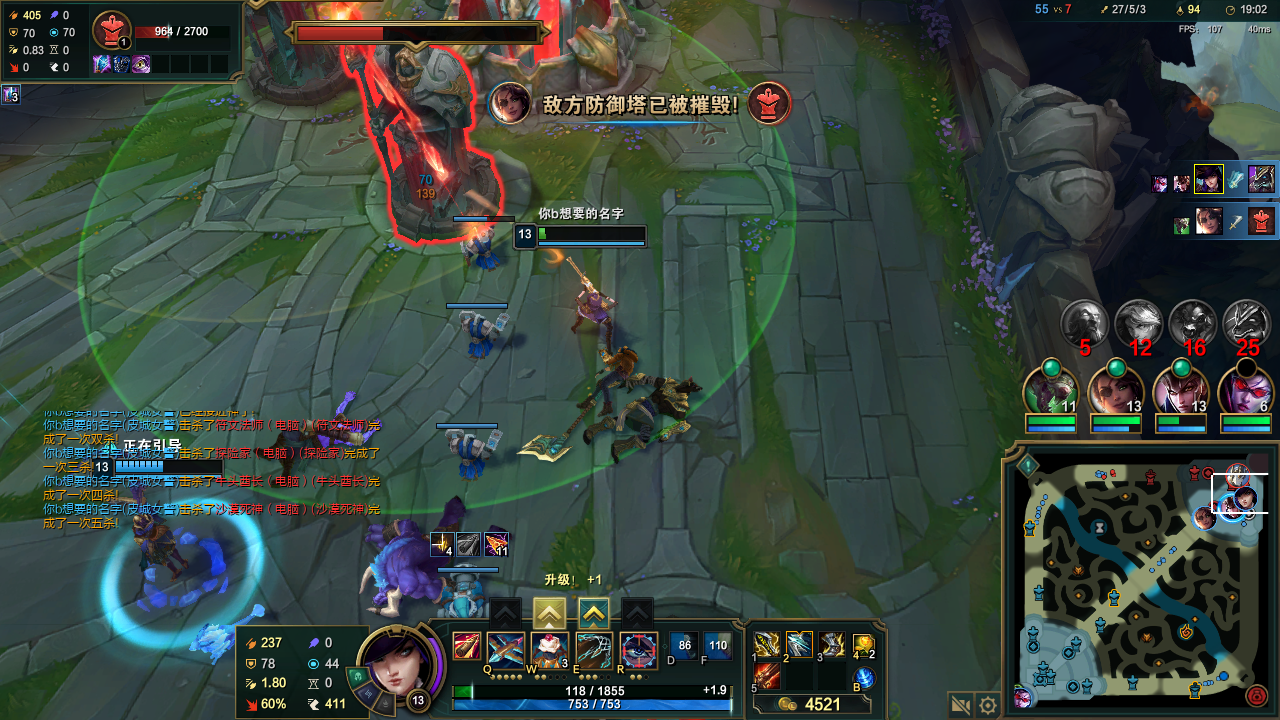DFFYT: (291, 24, 527, 239)
KF: (787, 636, 814, 648)
Shenji: (575, 605, 605, 630)
Tuijianshengji: (531, 601, 561, 625)
WFXB: (447, 313, 512, 367), (442, 430, 496, 478), (464, 232, 507, 266)
